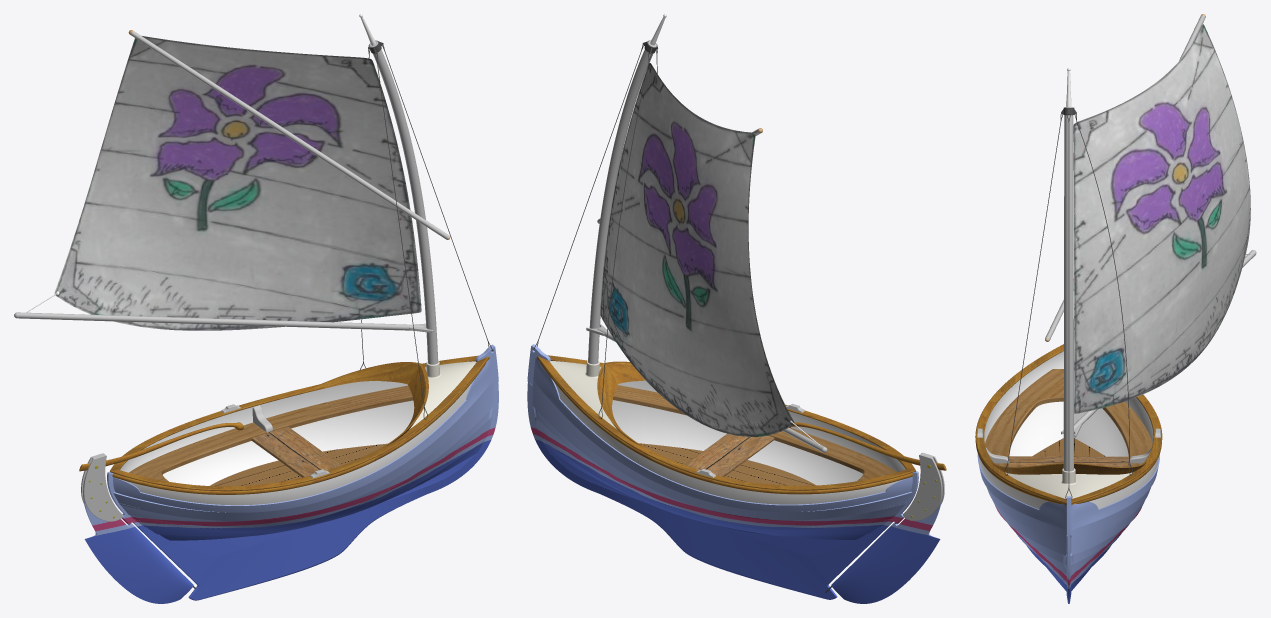
File: Toy boat.fbx
3 renders of one model, left to right at view 1: azimuth 30°, elevation 25°; view 2: azimuth 150°, elevation 25°; view 3: azimuth 270°, elevation 25°, orthographic.
Parts seen in each view (by area): view 1: object_45, object_35, object_34, object_19, object_6, object_57, object_27, object_32, object_15, object_28, object_37, object_56 (+12 smaller); view 2: object_45, object_35, object_34, object_19, object_26, object_31, object_57, object_15, object_20, object_6, object_2, object_8 (+10 smaller); view 3: object_45, object_34, object_6, object_15, object_35, object_57, object_7, object_56, object_2, object_27, object_26, object_48 (+10 smaller).
Part boxes in pixels (box(x1,y1,x2,y2)): object_45: box(54, 36, 421, 330); object_35: box(107, 344, 498, 600); object_34: box(120, 381, 414, 485); object_19: box(83, 493, 193, 603); object_6: box(129, 385, 413, 481); object_57: box(110, 355, 489, 491); object_27: box(113, 381, 493, 521); object_32: box(125, 383, 471, 505); object_15: box(369, 41, 438, 364); object_28: box(119, 395, 493, 527); object_37: box(17, 312, 423, 330); object_56: box(302, 362, 428, 448); object_45: box(600, 63, 794, 436); object_35: box(527, 344, 918, 599); object_34: box(612, 380, 905, 485); object_19: box(831, 498, 942, 603); object_26: box(532, 380, 912, 520); object_31: box(554, 382, 901, 504); object_57: box(537, 355, 915, 490); object_15: box(588, 41, 656, 364); object_20: box(532, 394, 906, 526); object_6: box(613, 385, 896, 480); object_2: box(685, 433, 774, 476); object_8: box(639, 443, 816, 485); object_45: box(1073, 23, 1250, 413); object_34: box(984, 351, 1153, 456); object_6: box(985, 369, 1152, 466); object_15: box(1063, 107, 1073, 471); object_35: box(977, 454, 1159, 603); object_57: box(975, 344, 1162, 503); object_7: box(1005, 468, 1131, 498); object_56: box(990, 460, 1147, 474); object_2: box(1009, 456, 1128, 467); object_27: box(986, 487, 1066, 543); object_26: box(1071, 488, 1150, 543); object_48: box(1065, 113, 1072, 499).
Size of the model in its own units: 1154 by 1438 by 670.
